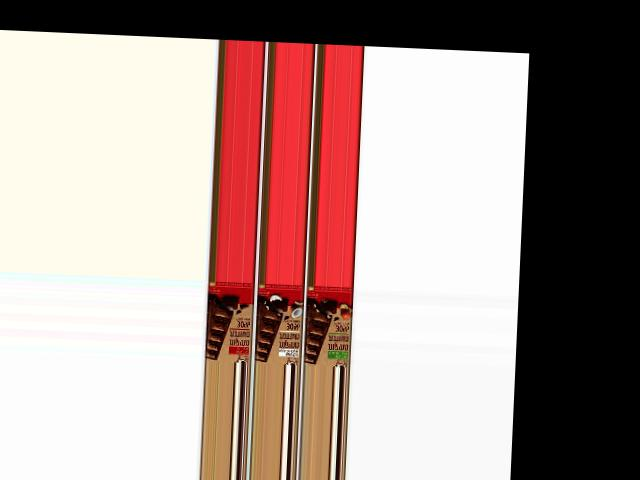chocolate: (304, 284, 355, 366)
